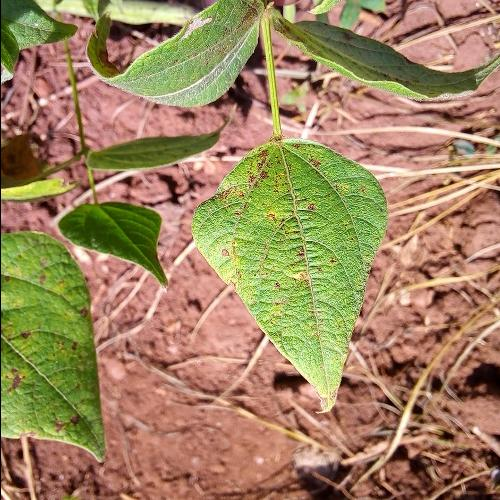mozaik: (229, 126, 385, 362)
